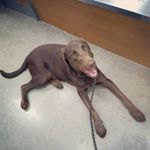puppy: (1, 36, 111, 110)
